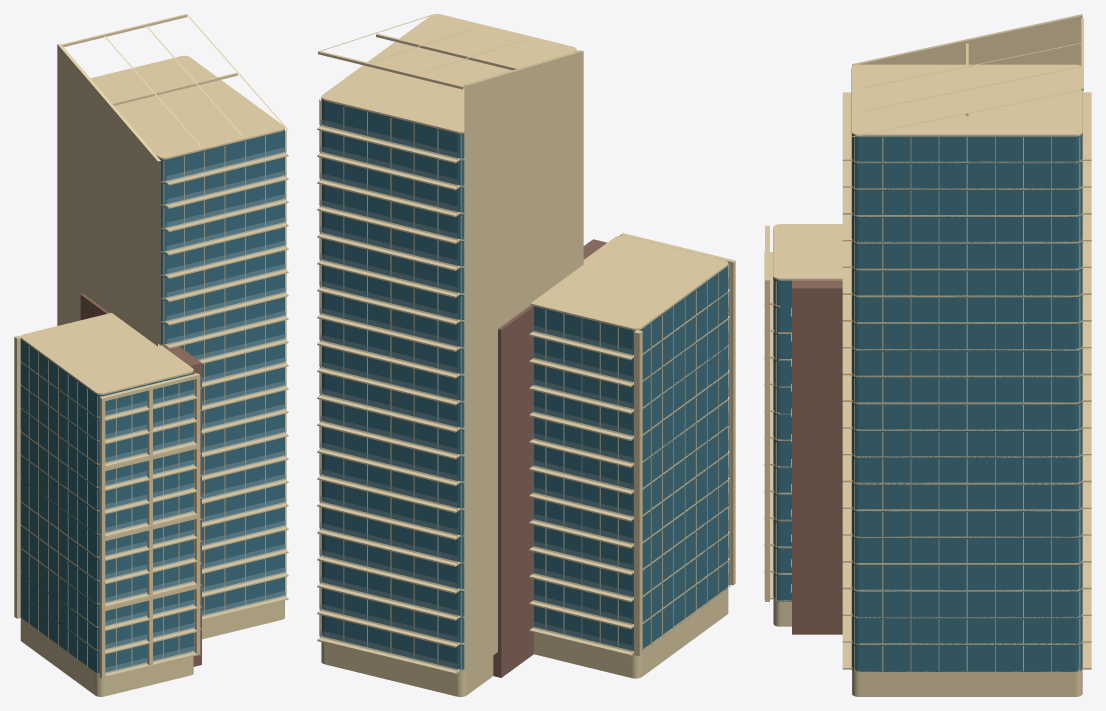
File: 14east.glb
3 renders of one model, left to right at view 1: azimuth 30°, elevation 25°; view 2: azimuth 150°, elevation 25°; view 3: azimuth 270°, elevation 25°, orthographic. The views are drawn at different scales.
Visible parts, largest first — view 1: Hauptturm - 70 m, Niedriger Seitenfluegel, Dunkler Verbindungsbau; view 2: Hauptturm - 70 m, Niedriger Seitenfluegel, Dunkler Verbindungsbau; view 3: Hauptturm - 70 m, Dunkler Verbindungsbau, Niedriger Seitenfluegel.
Boxes of the visible parts, box(x1,y1,x2,y2) form: Hauptturm - 70 m: box(57, 14, 288, 639); Niedriger Seitenfluegel: box(14, 313, 200, 696); Dunkler Verbindungsbau: box(80, 294, 201, 666); Hauptturm - 70 m: box(317, 14, 583, 696); Niedriger Seitenfluegel: box(529, 233, 735, 678); Dunkler Verbindungsbau: box(493, 239, 606, 677); Hauptturm - 70 m: box(842, 14, 1091, 696); Dunkler Verbindungsbau: box(791, 280, 842, 634); Niedriger Seitenfluegel: box(764, 224, 842, 626).
Size of the model in its own units: 32.53 by 73 by 35.5.
